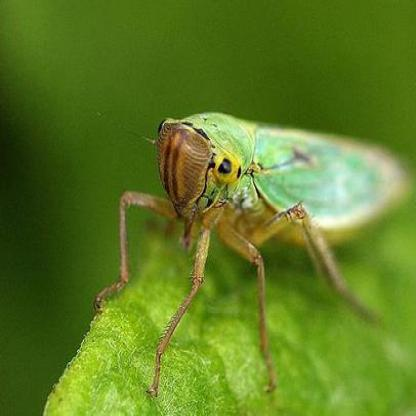Green-Leafhopper: (91, 107, 407, 403)
